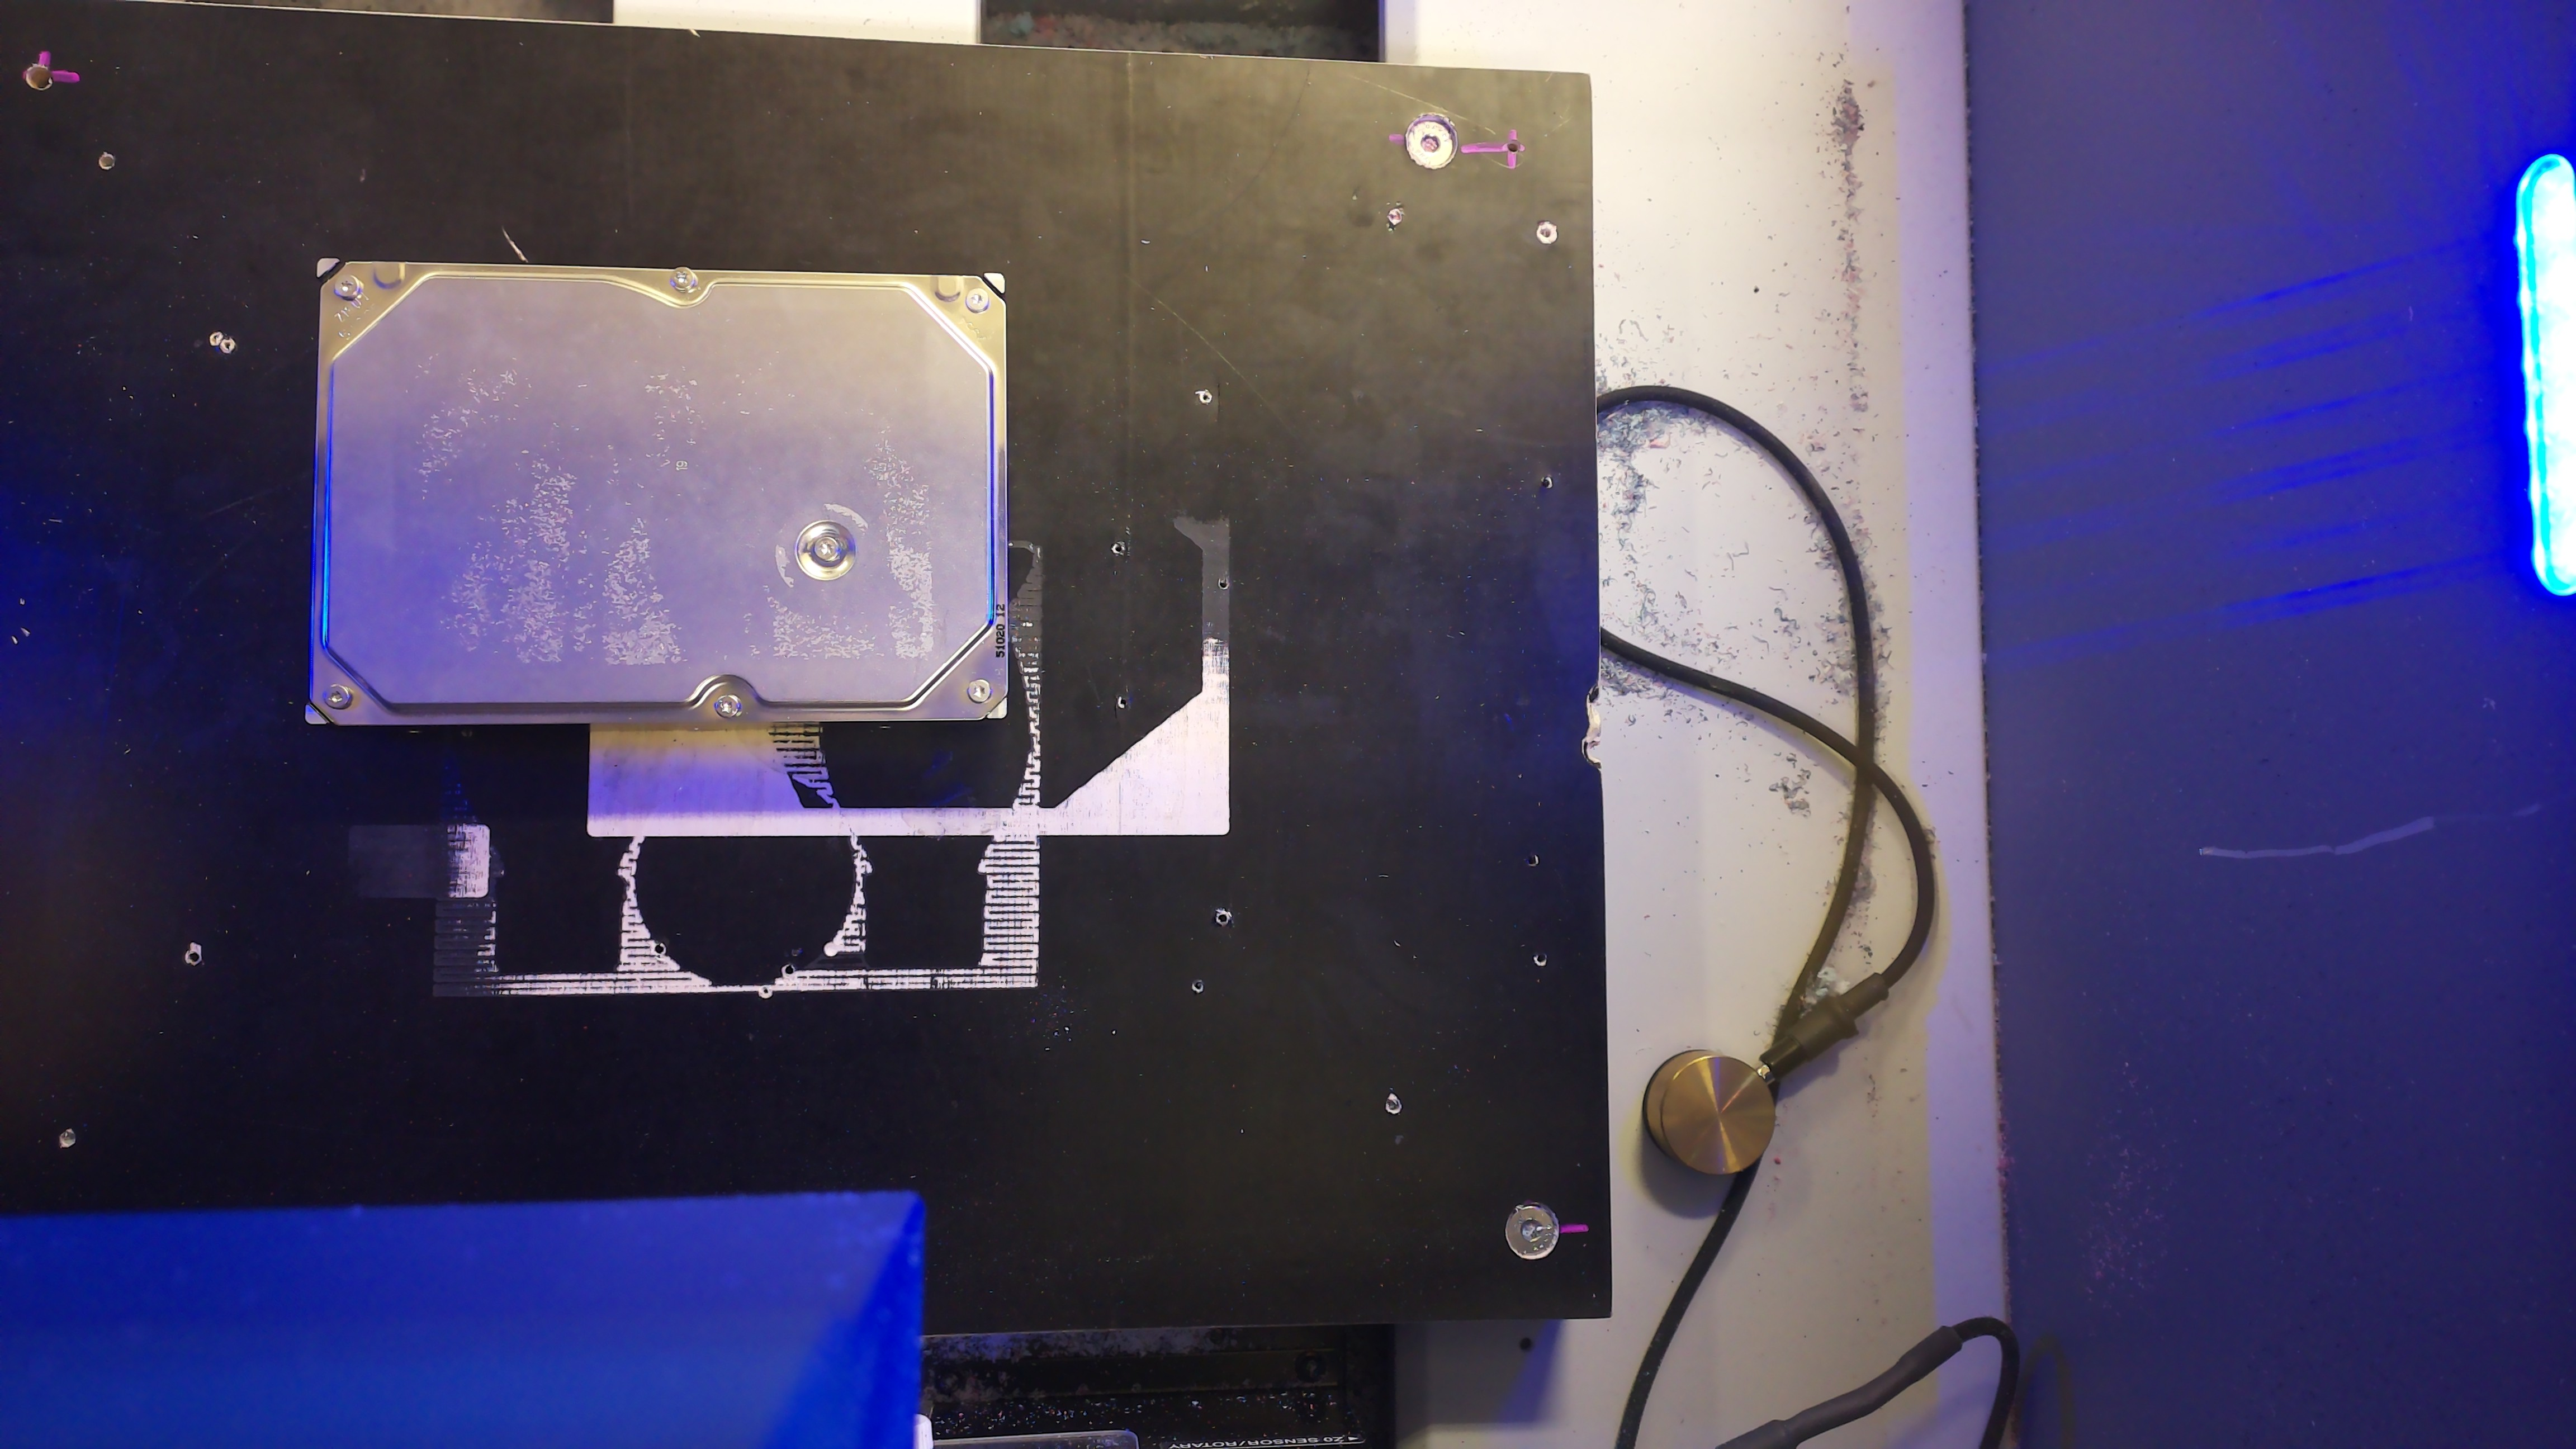Screw: (324, 683, 352, 709), (671, 265, 695, 292), (814, 536, 839, 561), (334, 274, 359, 299), (715, 695, 740, 718), (968, 679, 991, 702), (966, 288, 989, 311)
